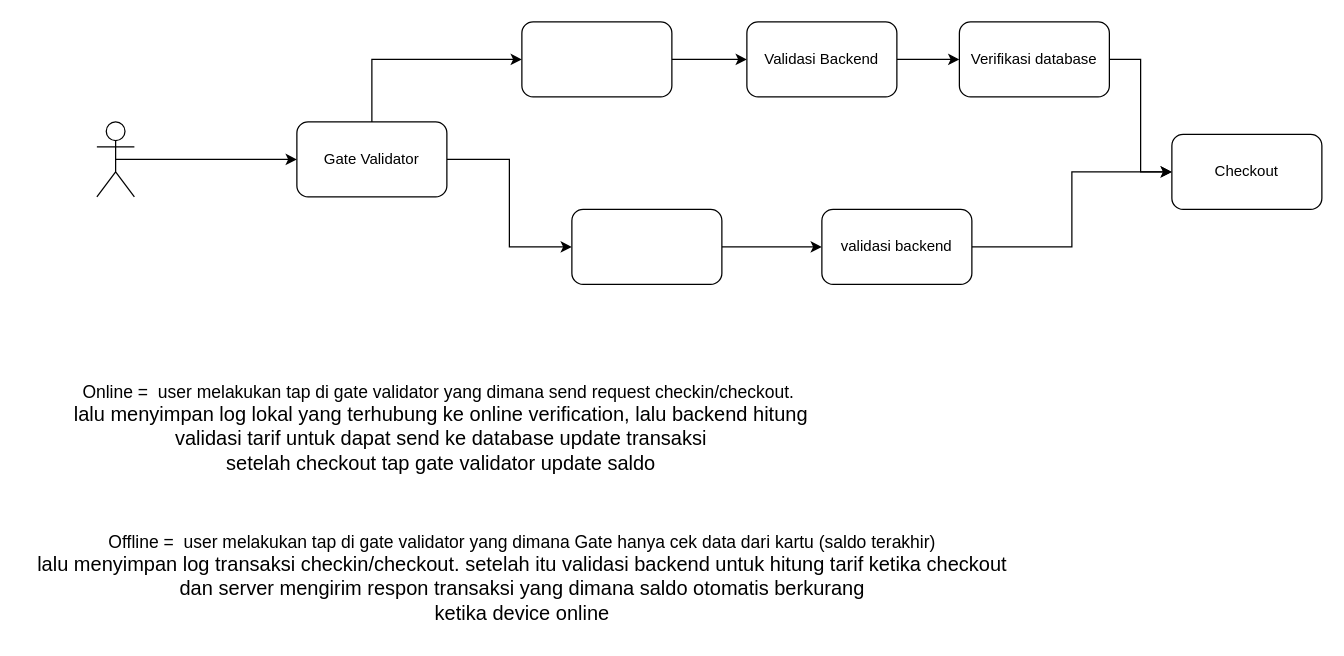
This 1344x656 diagram has some shape labels left out. Here are the shapes that lost their labels. From the top down, the box of each, then its label:
(521, 21, 672, 97): Online Verification
(96, 121, 134, 197): Penumpang/kartu
(571, 208, 722, 284): offline Verification
